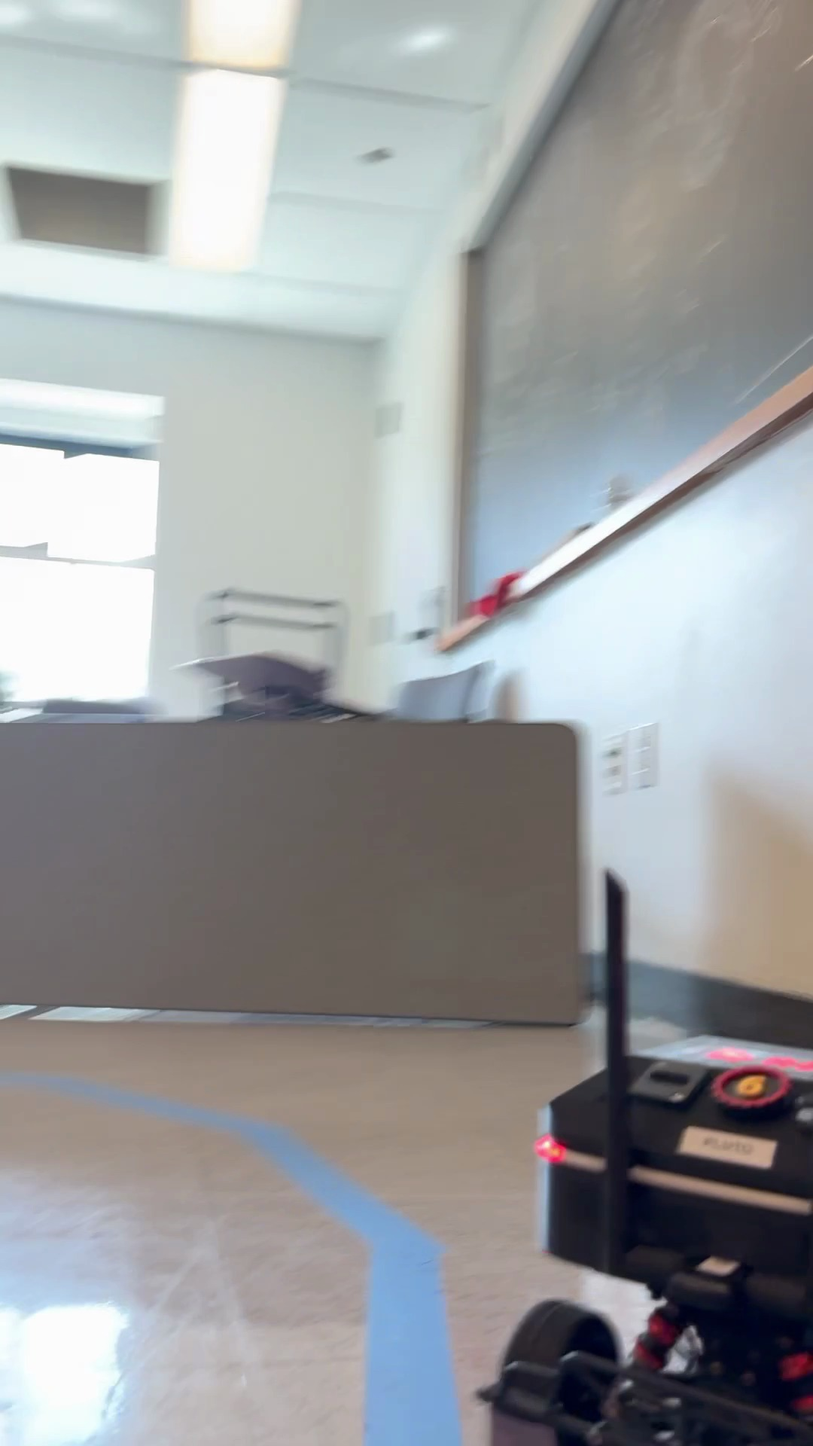racecar: (461, 865, 813, 1444)
